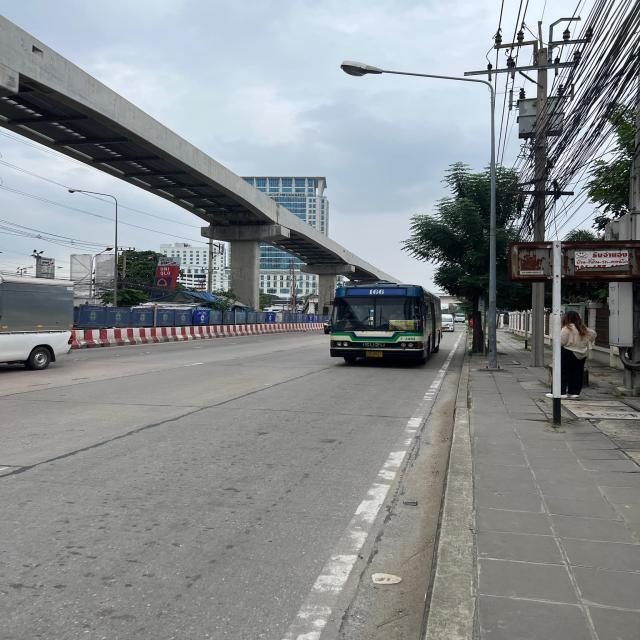BMTA-bus: (324, 280, 444, 364)
Bus-Line-Number: (366, 288, 387, 295)
Destination-Sign-Normal-Expressway: (390, 320, 414, 330)
